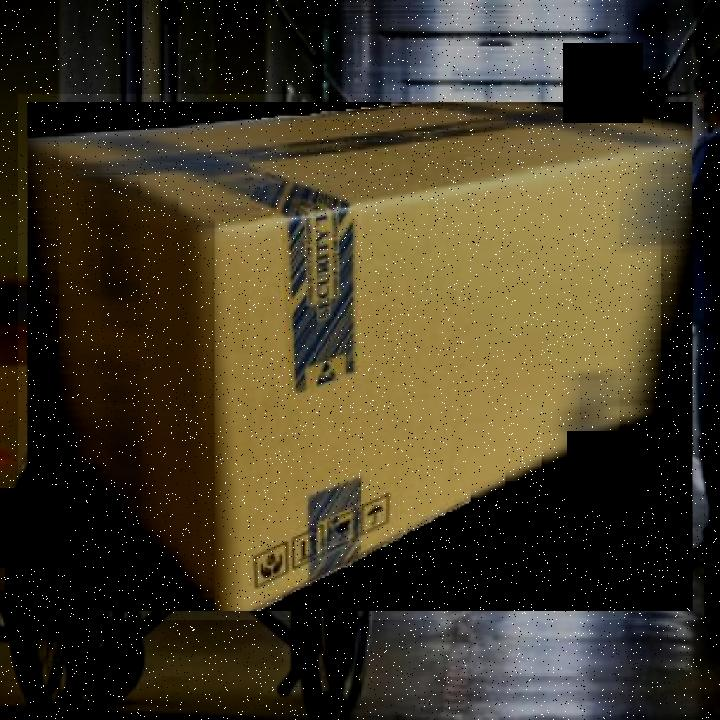box: (18, 95, 704, 620)
